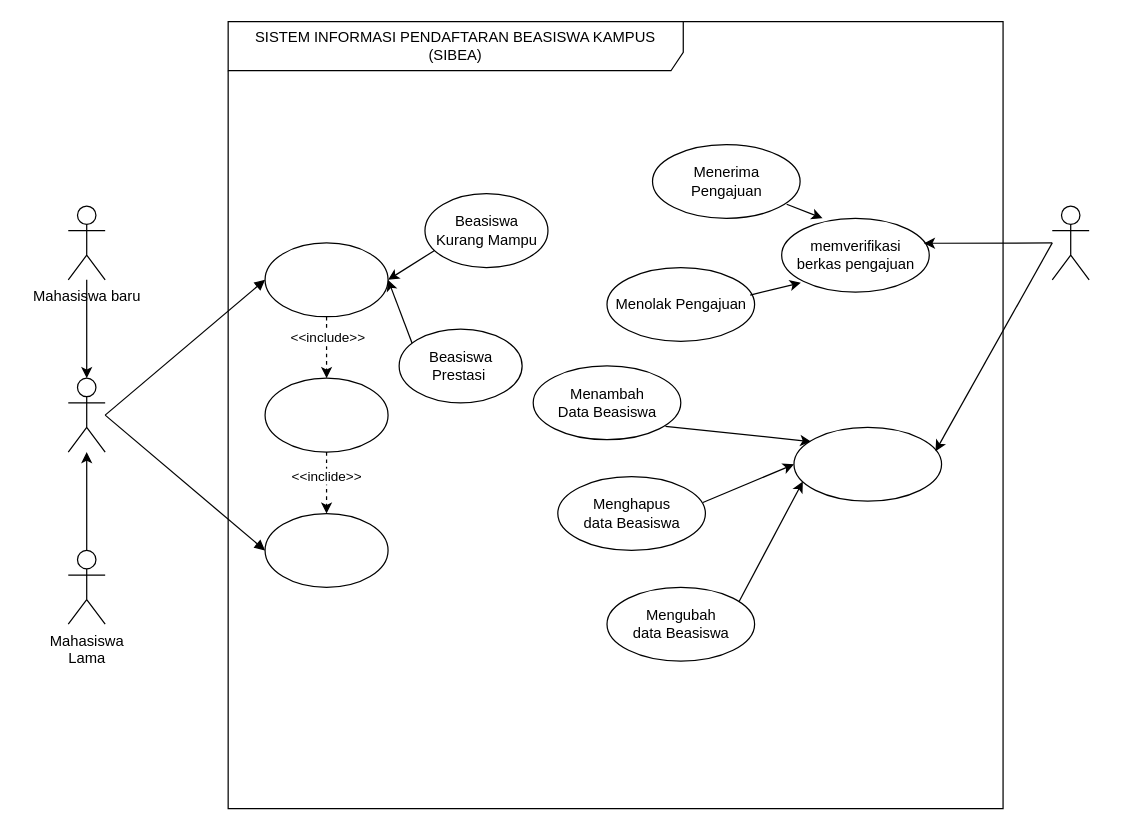
Some shapes in this 1129 by 830 pixel diagram are drawn without their labels. Each missing label, with the box of its shape:
Data Beasiswa: (793, 426, 942, 501)
Melampirkan Berkas: (264, 377, 388, 452)
Melihat Daftar Beasiswa: (264, 242, 388, 317)
Mengajukan Beasiswa: (264, 512, 388, 587)
Pendaftar Beasiswa: (67, 377, 105, 452)
Petugas Mahasiswa: (1051, 205, 1089, 280)
